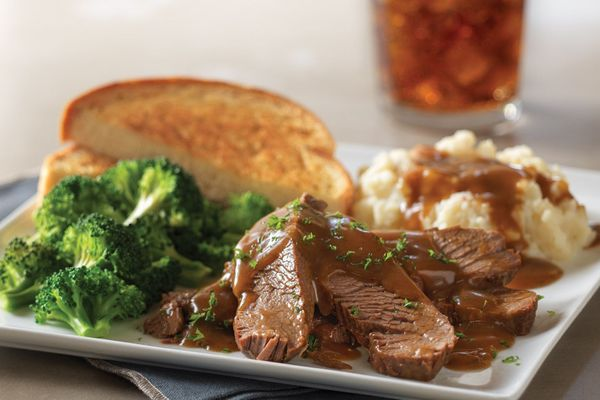curry: (0, 156, 275, 335)
